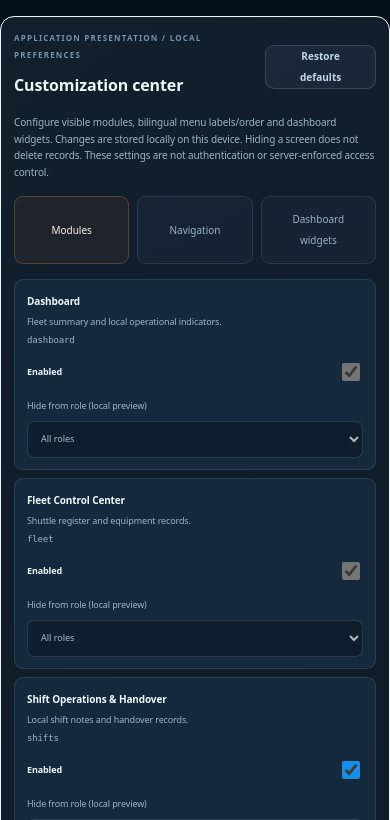
Scenario: local application customization center › preserves an individual hidden menu entry when its module is disabled and re-enabled
Expected: the button "Restore defaults" is shown, top-left (265, 44), bottom-right (376, 88)
Click the checkbox named "Enable Shift Operations & Handover" at [351, 770], box top-left (342, 761), bottom-right (360, 779)
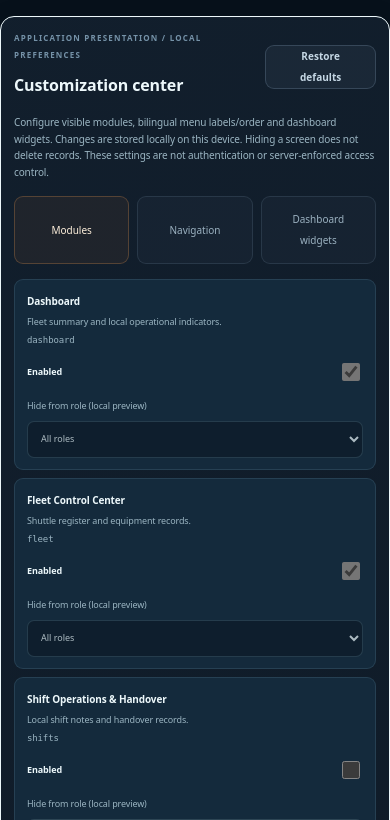
Expected: the checkbox named "Enable Shift Operations & Handover" is not checked
Click the checkbox named "Enable Shift Operations & Handover" at [351, 770], box top-left (342, 761), bottom-right (360, 779)
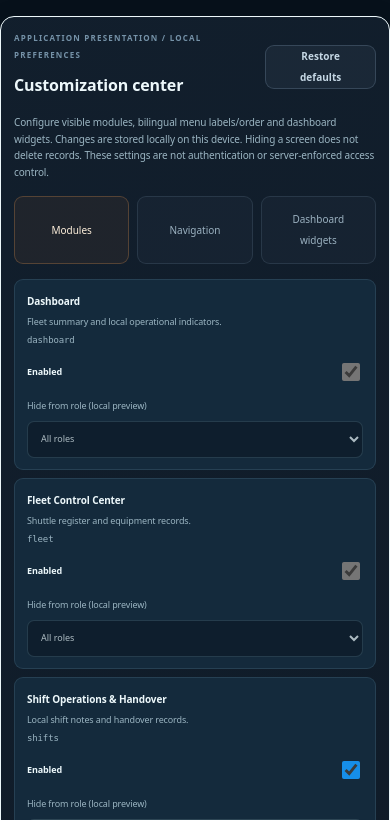
Expected: the checkbox named "Enable Shift Operations & Handover" is checked, top-left (342, 761), bottom-right (360, 779)
